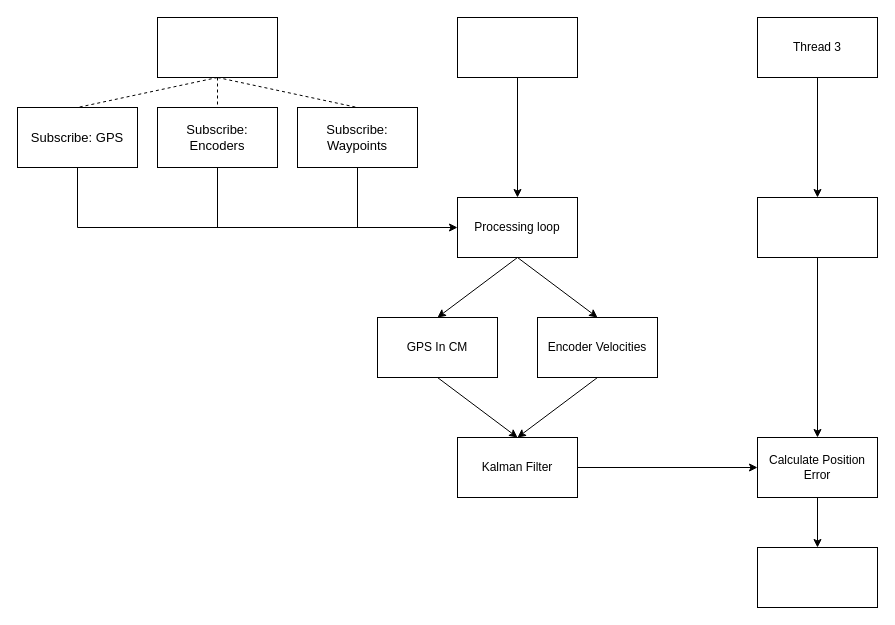
Image size: 895x625. Some labels were removed from this diagram. The centre of each missing label's shape, as x and y in pixels:
"Adjust PWM" goes at point 817,227.
"Publish Update PWM" goes at point 817,577.
"Thread 1" goes at point 217,47.
"Thread 2" goes at point 517,47.
